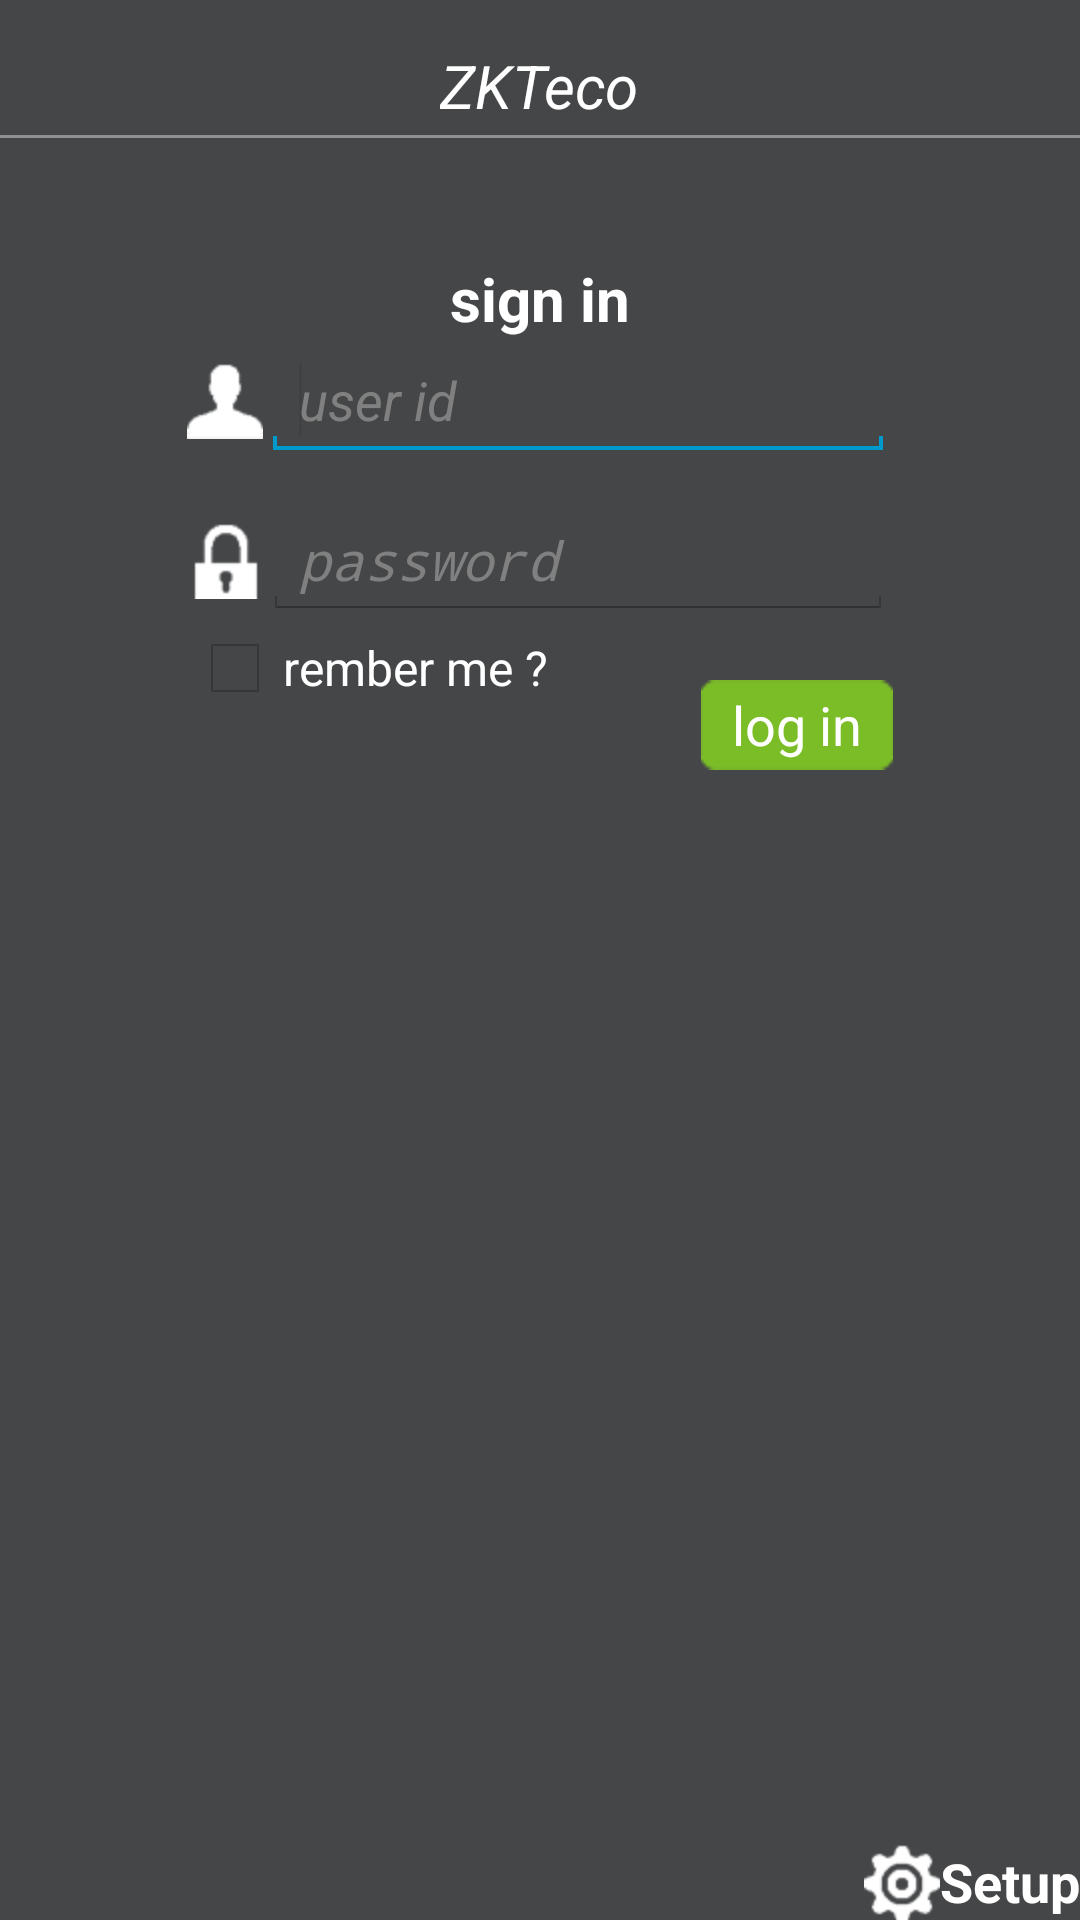

Named icons in this screenshot (1080 × 1920) and their bounding boxes, (x1, y1, x2, y2):
login user: (187, 364, 263, 439)
